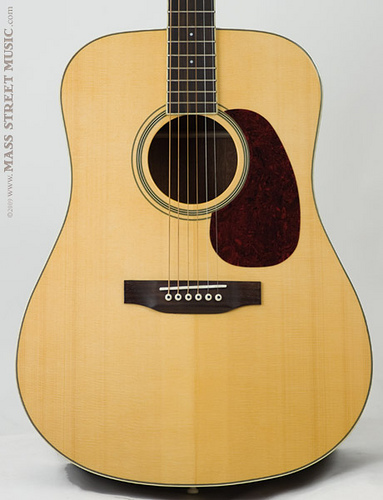guitar: (13, 1, 374, 492)
